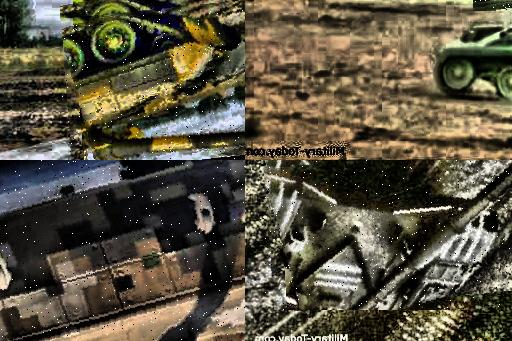tanks: (1, 161, 246, 341), (265, 164, 512, 311), (63, 11, 246, 161), (440, 28, 512, 100), (475, 4, 512, 12)
